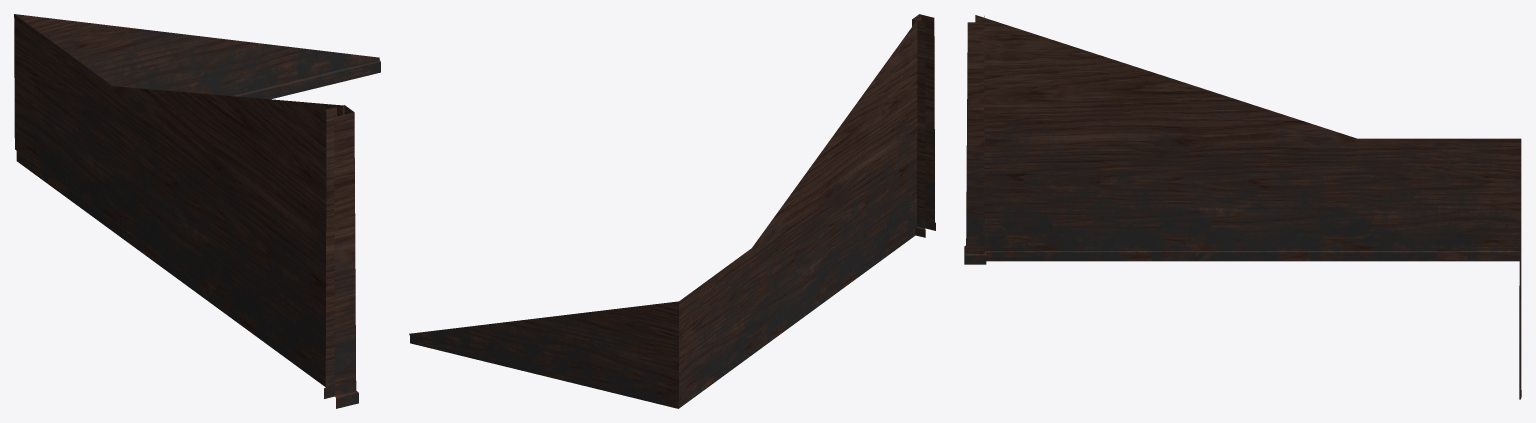
File: Mod_Wall_Stairs_A.fbx
3 renders of one model, left to right at view 1: azimuth 30°, elevation 25°; view 2: azimuth 150°, elevation 25°; view 3: azimuth 270°, elevation 25°, orthographic. The views are drawn at different scales.
Visible parts, largest first — view 1: Mod_Wall_Stairs_A_Low; view 2: Mod_Wall_Stairs_A_Low; view 3: Mod_Wall_Stairs_A_Low.
Boxes of the visible parts, bbox=[...] form: Mod_Wall_Stairs_A_Low: bbox=[14, 14, 380, 408]; Mod_Wall_Stairs_A_Low: bbox=[409, 14, 935, 408]; Mod_Wall_Stairs_A_Low: bbox=[964, 15, 1521, 399].
Bounding box in the file's own units: 801 × 598 × 1228.
Materials: 1 (1 with a texture image).
